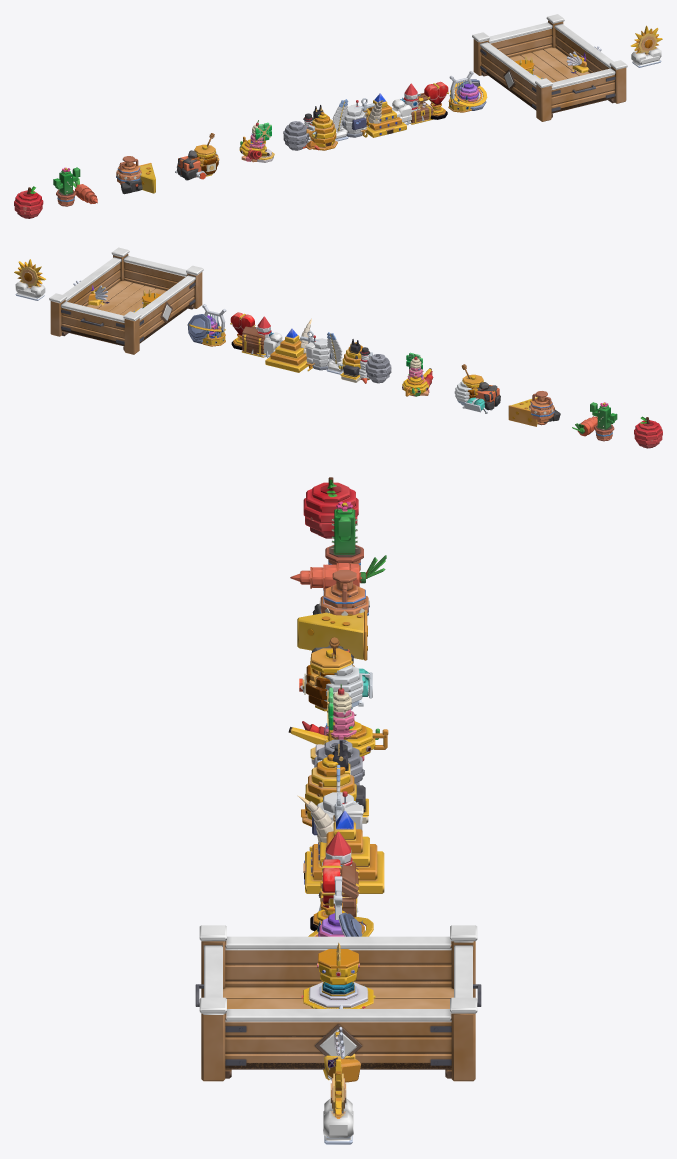
File: Lot10_ObjetsMondes.fbx
The picture shows the model from 3 angles, top to bottom: view 1: azimuth 30°, elevation 25°; view 2: azimuth 150°, elevation 25°; view 3: azimuth 270°, elevation 25°; orthographic projection. The views are drawn at different scales.
Parts seen in each view (by area): view 1: BacObjets__Bin, BacObjets__Trim, Objets_Divin__Soleil, Objets_Desert__Pyramide, Objets_Prairie__RucheDOr, Objets_Desert__Cactus, Objets_Prairie__Pomme, Objets_Volcan__CoeurDeMagma, Objets_Cosmos__Planete, Objets_Cosmos__Casque, Objets_Cosmos__RocheLunaire, Objets_Prairie__PotDeMiel (+9 smaller); view 2: BacObjets__Bin, BacObjets__Trim, Objets_Desert__Pyramide, Objets_Divin__Soleil, Objets_Desert__Cactus, Objets_Prairie__Pomme, Objets_Desert__Cruche, Objets_Cosmos__RocheLunaire, Objets_Abysses__Coffre, Objets_Prairie__Fromage, Objets_Cosmos__Casque, Objets_Abysses__Huitre (+8 smaller); view 3: BacObjets__Bin, BacObjets__Trim, Objets_Desert__Pyramide, Objets_Prairie__Fromage, Objets_Prairie__Pomme, Objets_Divin__Soleil, Objets_Prairie__PotDeMiel, Objets_Prairie__RucheDOr, Objets_Desert__Cactus, Objets_Desert__Cruche, Objets_Cosmos__Soucoupe, Objets_Prairie__Carotte (+5 smaller).
Boxes of the visible parts, x1,y1,x2,y2 form: BacObjets__Bin: (473,20,626,121); BacObjets__Trim: (472,14,627,89); Objets_Divin__Soleil: (631,25,662,67); Objets_Desert__Pyramide: (365,93,406,137); Objets_Prairie__RucheDOr: (311,112,337,150); Objets_Desert__Cactus: (53,167,80,206); Objets_Prairie__Pomme: (14,186,43,218); Objets_Volcan__CoeurDeMagma: (424,81,448,119); Objets_Cosmos__Planete: (450,82,487,106); Objets_Cosmos__Casque: (342,100,366,137); Objets_Cosmos__RocheLunaire: (283,121,309,150); Objets_Prairie__PotDeMiel: (194,133,219,176); BacObjets__Bin: (50,254,202,354); BacObjets__Trim: (49,247,203,322); Objets_Desert__Pyramide: (265,328,308,372); Objets_Divin__Soleil: (14,259,45,300); Objets_Desert__Cactus: (590,402,617,441); Objets_Prairie__Pomme: (634,416,662,448); Objets_Desert__Cruche: (529,391,554,425); Objets_Cosmos__RocheLunaire: (365,354,391,383); Objets_Abysses__Coffre: (241,326,265,357); Objets_Prairie__Fromage: (508,397,537,426); Objets_Cosmos__Casque: (312,335,332,370); Objets_Abysses__Huitre: (187,314,211,343); BacObjets__Bin: (195,941,481,1081); BacObjets__Trim: (199,925,477,1056); Objets_Desert__Pyramide: (303,810,384,893); Objets_Prairie__Fromage: (297,610,367,660); Objets_Prairie__Pomme: (303,477,358,538); Objets_Divin__Soleil: (323,1059,353,1144); Objets_Prairie__PotDeMiel: (302,637,354,711); Objets_Prairie__RucheDOr: (301,754,358,826); Objets_Desert__Cactus: (325,501,363,570); Objets_Desert__Cruche: (319,570,369,615); Objets_Cosmos__Soucoupe: (301,982,375,1008); Objets_Prairie__Carotte: (290,555,386,590).
Size of the model in its own units: 109 by 6 by 20.85.
Materials: 8 (8 with a texture image).
